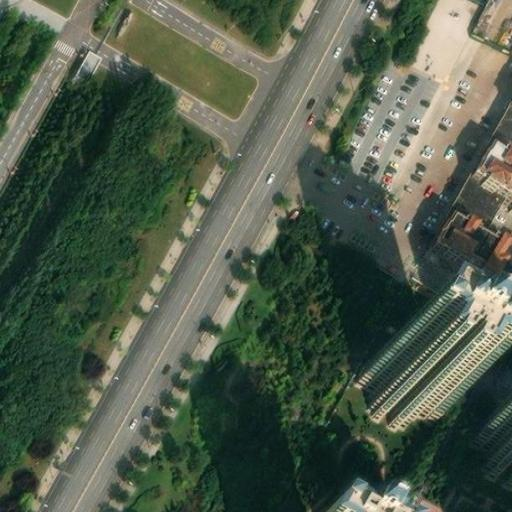building: (417, 74, 512, 263), (355, 343, 447, 420), (426, 215, 512, 290), (468, 408, 512, 479), (463, 142, 512, 198), (71, 48, 104, 87)
